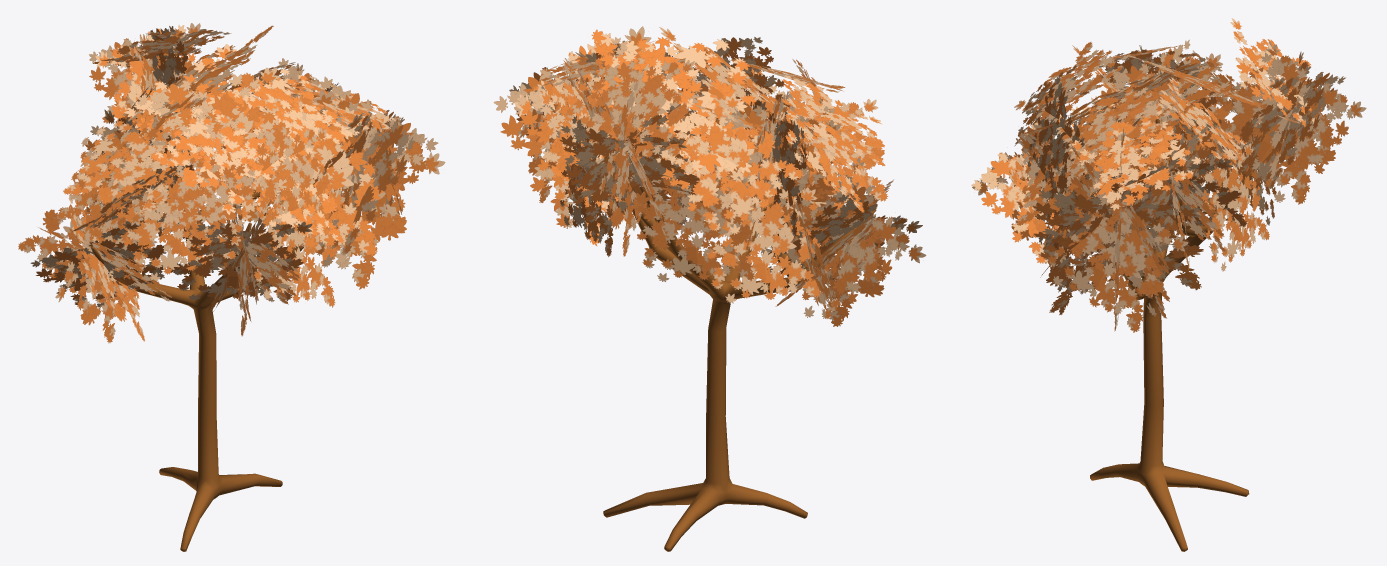
Rendered from SM_MapleTree.fbx.
The picture shows the model from 3 angles, left to right: view 1: azimuth 30°, elevation 25°; view 2: azimuth 150°, elevation 25°; view 3: azimuth 270°, elevation 25°; orthographic projection. The views are drawn at different scales.
Parts seen in each view (by area): view 1: Maple_Leaves.065, Plane.032; view 2: Maple_Leaves.065, Plane.032; view 3: Maple_Leaves.065, Plane.032.
Part boxes in pixels (x1=…): Maple_Leaves.065: x1=18, y1=23, x2=445, y2=343; Plane.032: x1=91, y1=169, x2=335, y2=551; Maple_Leaves.065: x1=493, y1=26, x2=926, y2=326; Plane.032: x1=597, y1=128, x2=876, y2=551; Maple_Leaves.065: x1=971, y1=18, x2=1366, y2=332; Plane.032: x1=1039, y1=119, x2=1258, y2=551.
Size of the model in its own units: 268 by 299 by 229.
